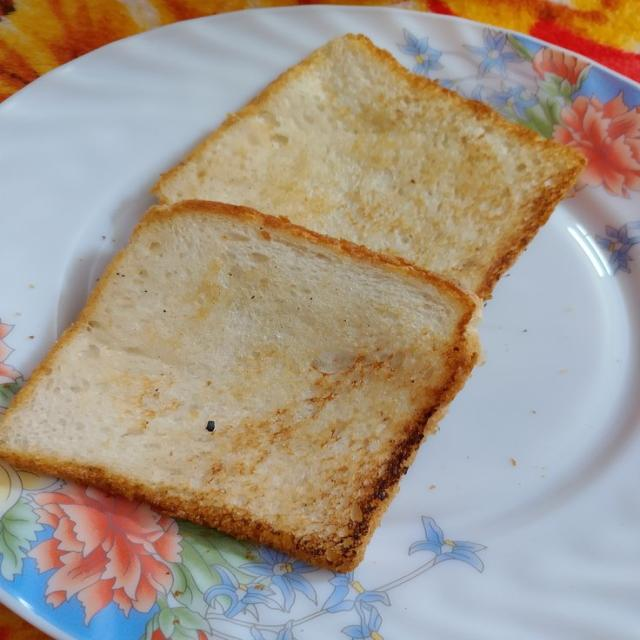toast bread: (0, 202, 477, 571), (153, 34, 583, 298), (35, 502, 145, 607)
